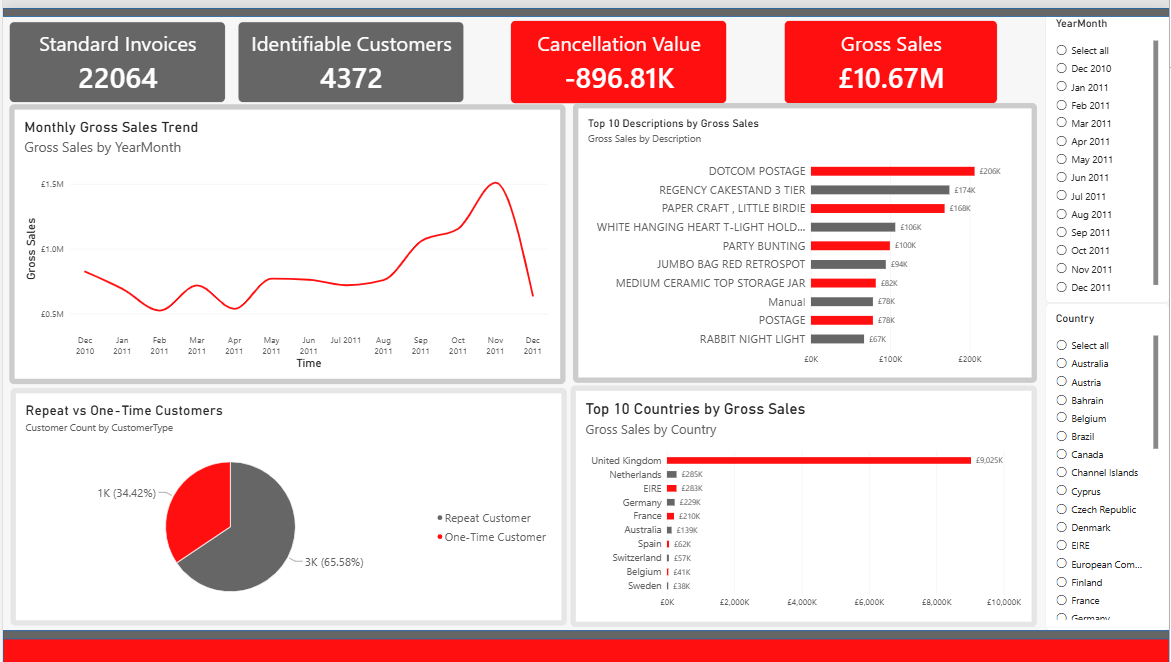

The page's visual inventory and layout, read from the dashboard file:
{"tool":"powerbi","page":{"name":"Retail Sales & Customer Insights","canvas":[1920,1080],"ordinal":0},"visuals":[{"type":"cardVisual","fields":{"Data":["vw_RetailCleaned.Gross Sales"]},"box":[1286.5,20.6,352,137.9],"z":0},{"type":"cardVisual","fields":{"Data":["vw_RetailCleaned.Cancellation Value"]},"box":[835.7,20.6,356.1,137.9],"z":1000},{"type":"cardVisual","fields":{"Data":["vw_RetailCleaned.Identifiable Customers"]},"box":[387,22.6,372.6,133.8],"z":2000},{"type":"cardVisual","fields":{"Data":["vw_RetailCleaned.Standard Invoices"]},"box":[10.3,22.6,356.1,133.8],"z":3000},{"type":"lineChart","title":"Monthly Gross Sales Trend","fields":{"Category":["vw_RetailCleaned.YearMonth"],"Y":["vw_RetailCleaned.Gross Sales"]},"box":[10.3,158.5,916,461.1],"z":4000},{"type":"clusteredBarChart","title":"Top 10 Descriptions by Gross Sales","fields":{"Category":["vw_RetailCleaned.Description"],"Y":["vw_RetailCleaned.Gross Sales"]},"box":[938.6,156.4,763.6,461.1],"z":5000},{"type":"pieChart","title":"Repeat vs One-Time Customers","fields":{"Category":["CustomerPurchaseFrequency.CustomerType"],"Y":["CustomerPurchaseFrequency.Customer Count"]},"box":[12.3,625.7,916,391.1],"z":6000},{"type":"clusteredBarChart","title":"Top 10 Countries by Gross Sales","fields":{"Category":["vw_RetailCleaned.Country"],"Y":["vw_RetailCleaned.Gross Sales"]},"box":[934.5,621.6,767.8,397.3],"z":7000},{"type":"listSlicer","fields":{"Values":["vw_RetailCleaned.YearMonth"]},"box":[1716.6,0,203.8,485.8],"z":8000},{"type":"listSlicer","fields":{"Values":["vw_RetailCleaned.Country"]},"box":[1716.6,485.8,203.8,539.3],"z":9000},{"type":"shape","box":[0,1025,1920.4,55.6],"z":10000},{"type":"shape","box":[0,1025,1920.4,14.4],"z":11000},{"type":"shape","box":[0,0,1920.4,14.4],"z":12000}]}

Visuals, with their boxes in screenshot pixels (x1, y1, x2, y2), scaled from the page's 1920x1080 canvas onto the 1171x662 screenshot:
cardVisual - vw_RetailCleaned.Gross Sales: region(785, 13, 999, 97)
cardVisual - vw_RetailCleaned.Cancellation Value: region(510, 13, 727, 97)
cardVisual - vw_RetailCleaned.Identifiable Customers: region(236, 14, 463, 96)
cardVisual - vw_RetailCleaned.Standard Invoices: region(6, 14, 223, 96)
"Monthly Gross Sales Trend" lineChart: region(6, 97, 565, 380)
"Top 10 Descriptions by Gross Sales" clusteredBarChart: region(572, 96, 1038, 379)
"Repeat vs One-Time Customers" pieChart: region(8, 384, 566, 623)
"Top 10 Countries by Gross Sales" clusteredBarChart: region(570, 381, 1038, 625)
listSlicer - vw_RetailCleaned.YearMonth: region(1047, 0, 1170, 298)
listSlicer - vw_RetailCleaned.Country: region(1047, 298, 1170, 628)
shape: region(0, 628, 1170, 661)
shape: region(0, 628, 1170, 637)
shape: region(0, 0, 1170, 9)
